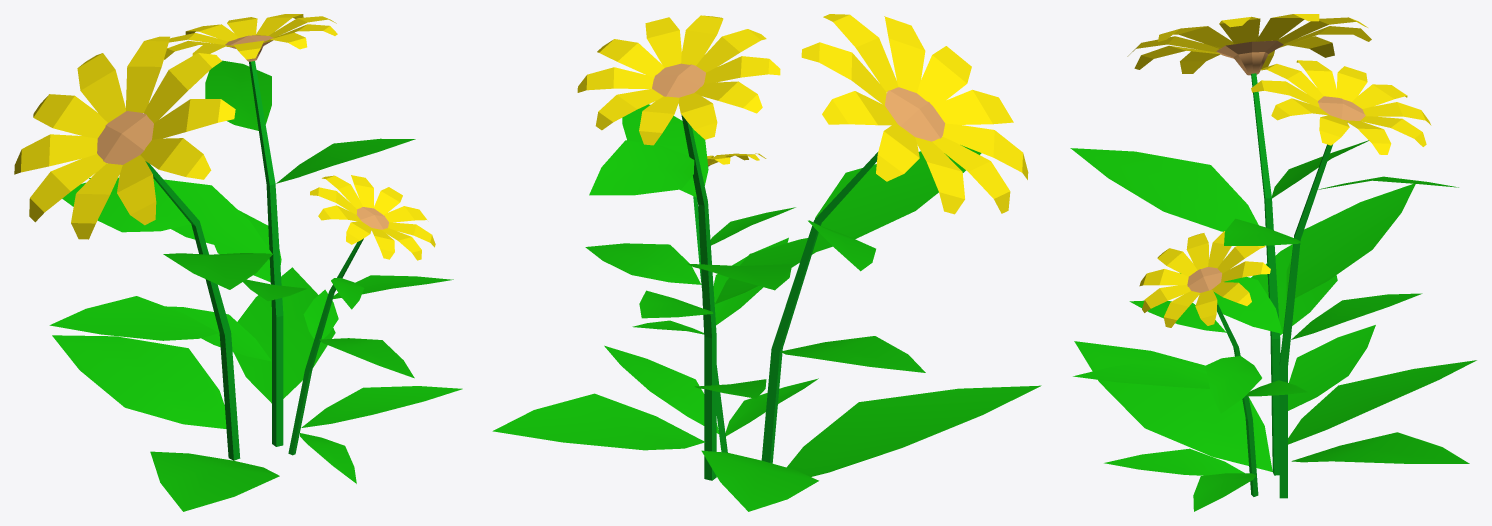
Rendered from wl_yellowFlower_01.fbx.
The picture shows the model from 3 angles, left to right: view 1: azimuth 30°, elevation 25°; view 2: azimuth 150°, elevation 25°; view 3: azimuth 270°, elevation 25°; orthographic projection. The views are drawn at different scales.
Parts seen in each view (by area): view 1: yellowFlower_01; view 2: yellowFlower_01; view 3: yellowFlower_01.
Part boxes in pixels (x1,y1,x2,y2): yellowFlower_01: [14, 14, 462, 511]; yellowFlower_01: [492, 14, 1041, 511]; yellowFlower_01: [1070, 14, 1476, 511].
Bounding box in the file's own units: 38.04 × 38.6 × 32.96.
